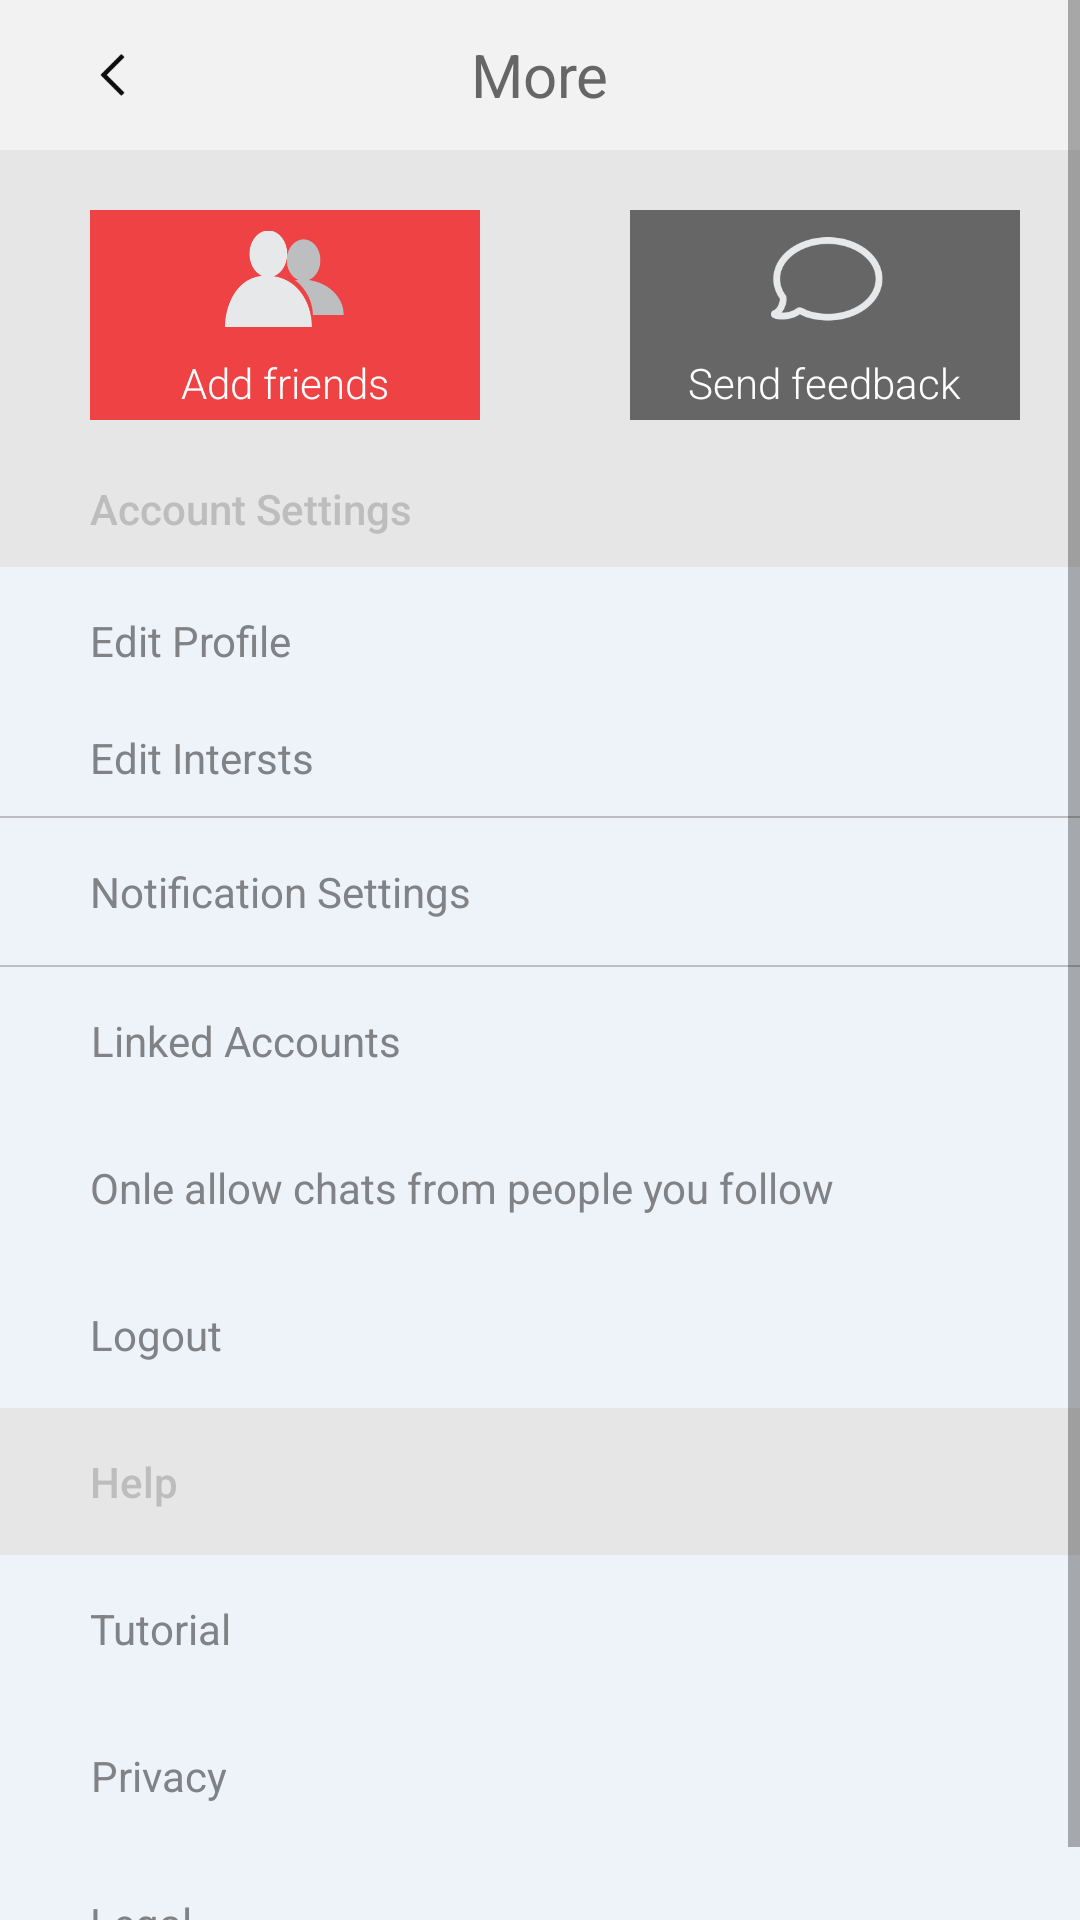

Where to tap for icons on this 1080 x 1920 app screen, as (x,y):
back blac: (112,75)
